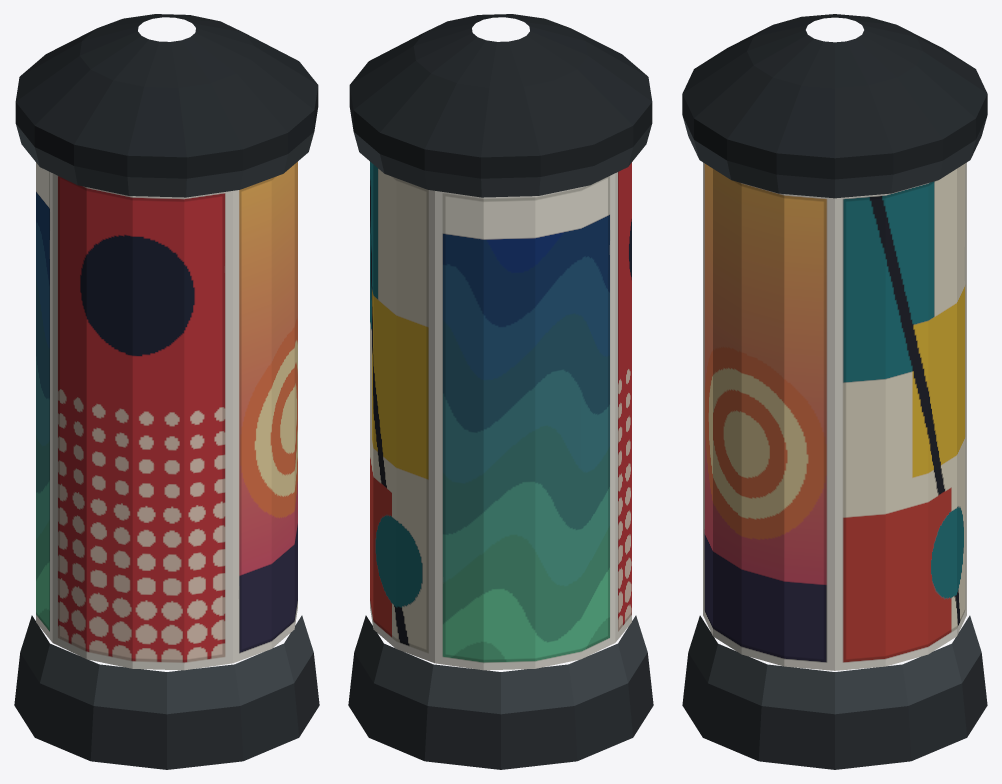
Rendered from poster-column.glb.
3 renders of one model, left to right at view 1: azimuth 30°, elevation 25°; view 2: azimuth 150°, elevation 25°; view 3: azimuth 270°, elevation 25°, orthographic.
Parts seen in each view (by area): view 1: posters, frame; view 2: posters, frame; view 3: posters, frame.
Boxes of the visible parts, x1,y1,x2,y2 form: posters: (36,161,297,670); frame: (14,14,319,769); posters: (370,161,631,670); frame: (348,14,653,769); posters: (703,162,966,670); frame: (682,14,987,769).
Size of the model in its own units: 1.04 by 2.54 by 1.04.
2 materials, 1 textured.
